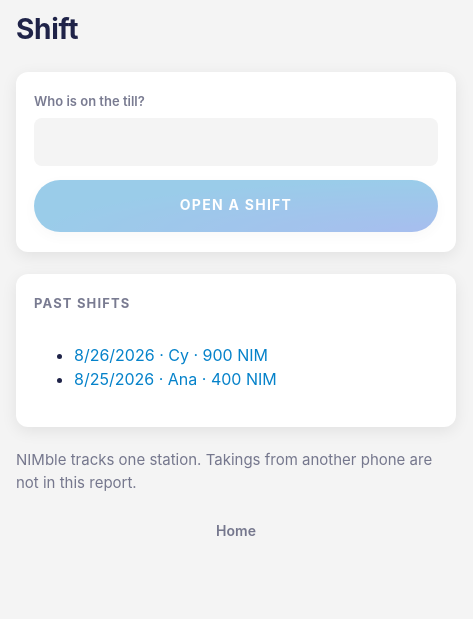
lists past shifts and shows a selected one's report using the same export actions
The width and height of the screenshot is (473, 619).
Check: the button "Open a shift" is shown, box [34,180,438,232]
Check: the text "Cy" is shown, box [168,345,189,365]
Click the text "Ana": [183, 379] box [168,369,197,389]
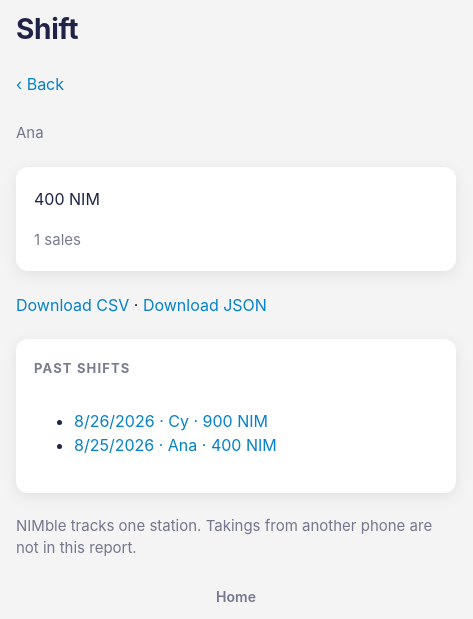
Check: the 1st text "400 NIM" is shown, box [34,188,100,208]
Check: the link "Download CSV" is shown, box [16,295,129,315]
